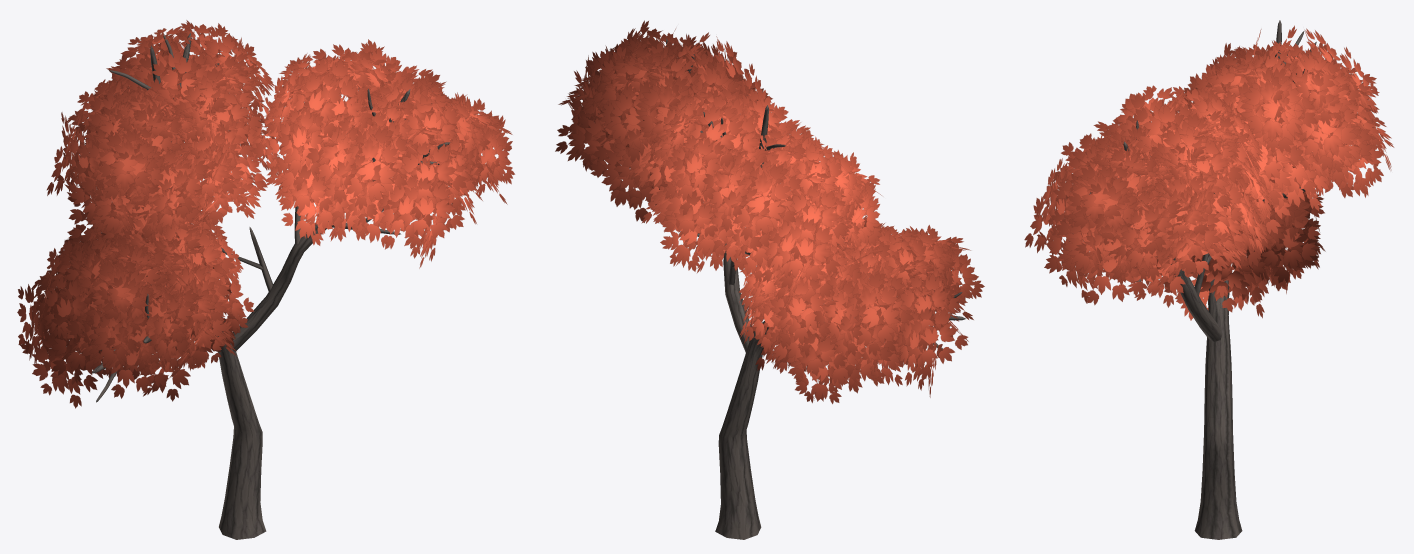
Rendered from MapleTree_5.glb.
3 views of the same model, side by side, from view 1: azimuth 30°, elevation 25°; view 2: azimuth 150°, elevation 25°; view 3: azimuth 270°, elevation 25° (orthographic). The views are drawn at different scales.
Visible parts, largest first — view 1: MapleTree_5; view 2: MapleTree_5; view 3: MapleTree_5.
Part boxes in pixels (left/top/right/bottom): MapleTree_5: left=17, top=20, right=514, bottom=539; MapleTree_5: left=555, top=20, right=984, bottom=539; MapleTree_5: left=1024, top=20, right=1394, bottom=539.
Bounding box in the file's own units: 7.01 × 7.28 × 5.08.
2 materials, 2 textured.
